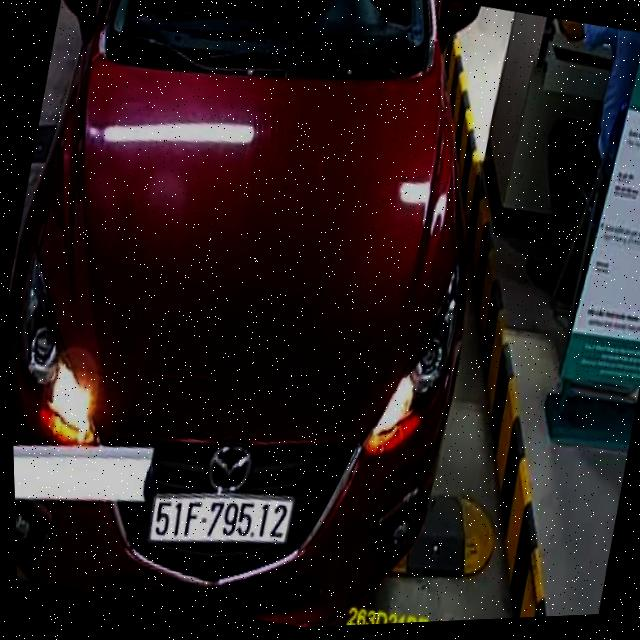car: (0, 0, 540, 626)
plate: (140, 471, 301, 573)
